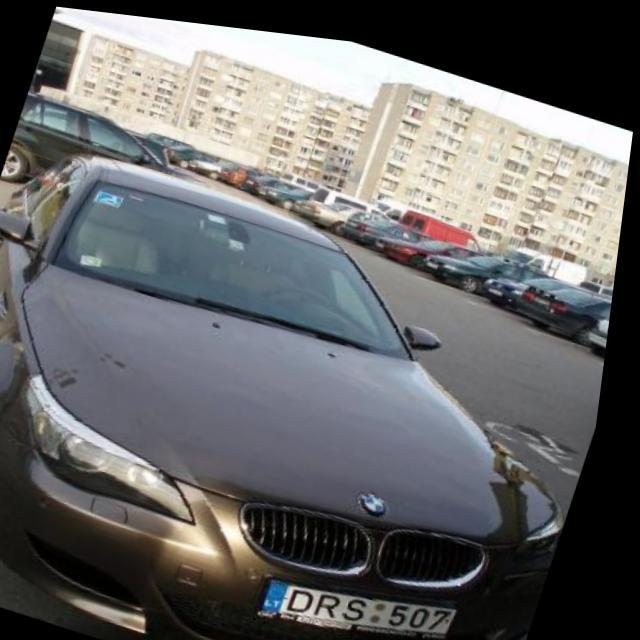license_plate: (268, 544, 475, 640), (540, 282, 559, 292)
